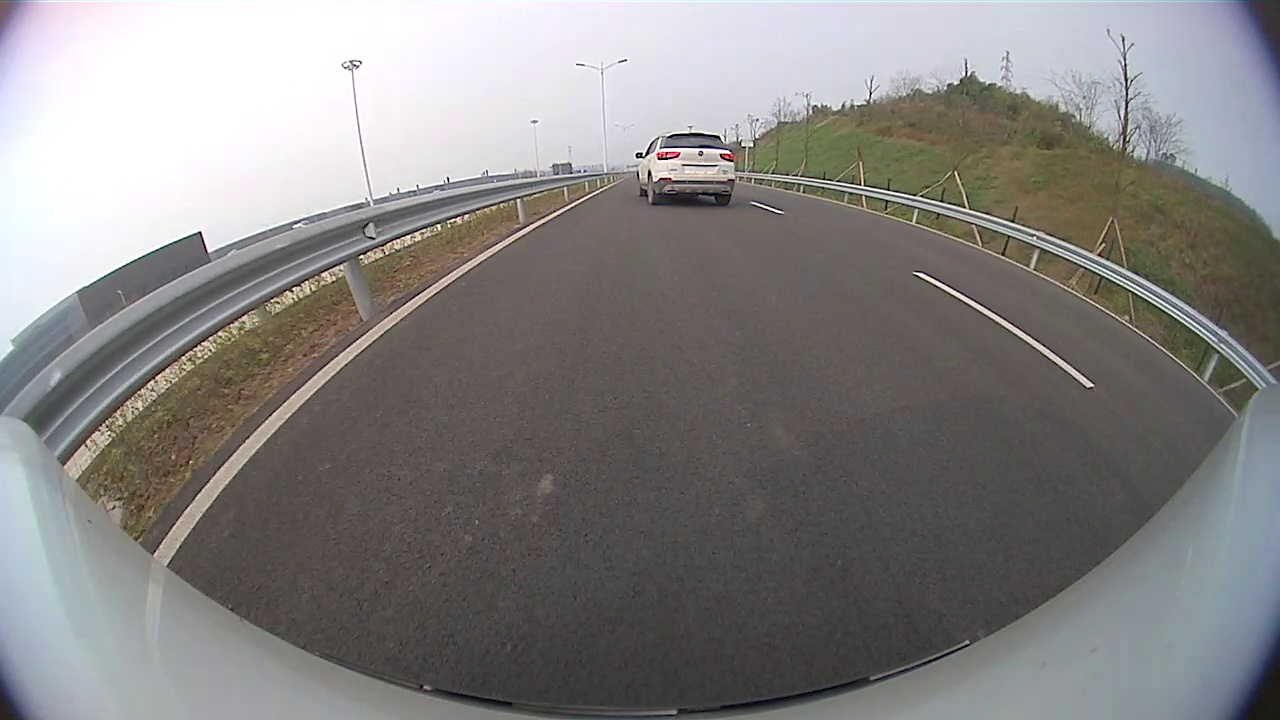car: (634, 131, 737, 207)
rear: (646, 175, 659, 206)
